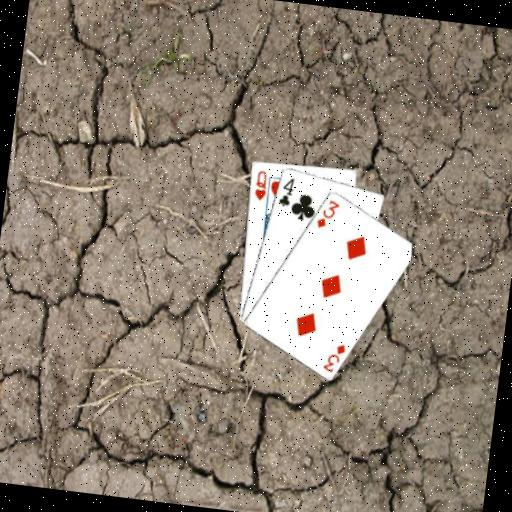3D: (313, 195, 342, 232), (319, 339, 348, 375)
4C: (275, 173, 296, 208)
QH: (251, 166, 270, 202)
